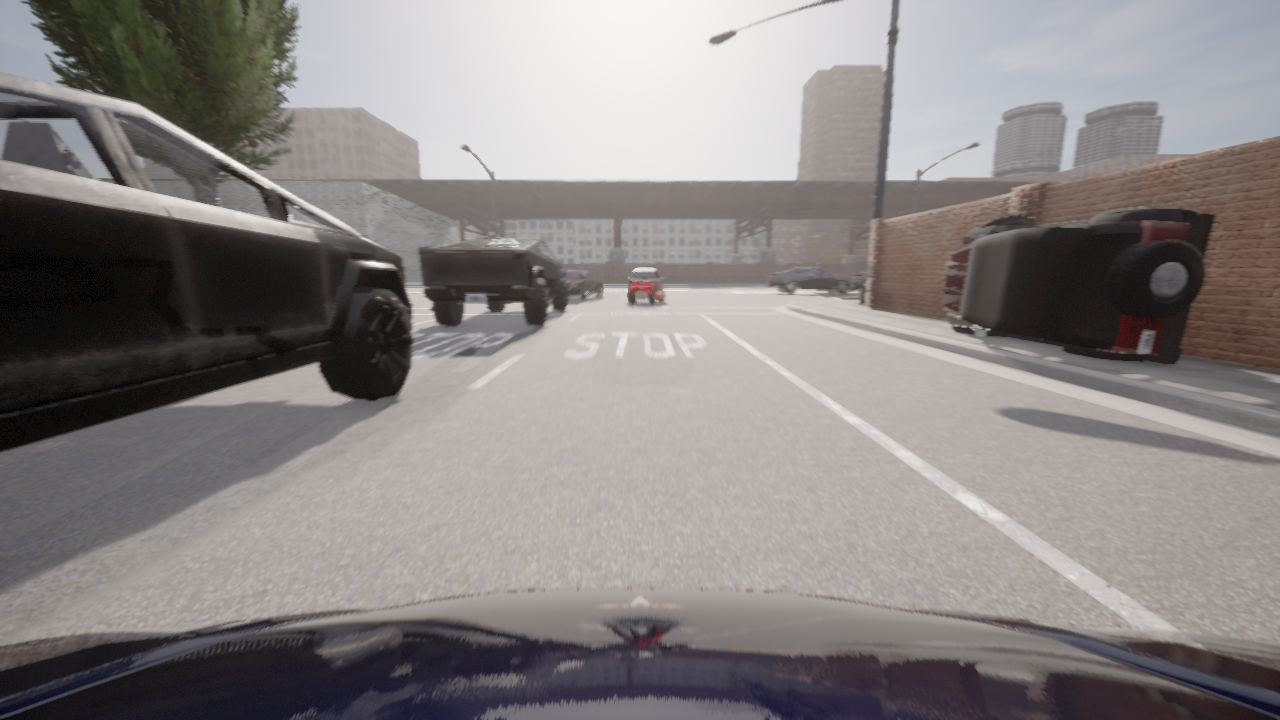cyclist: (0, 588, 1279, 719), (942, 207, 1215, 364), (418, 238, 569, 326), (767, 267, 857, 293), (628, 268, 663, 304), (565, 270, 602, 300), (850, 271, 867, 293)
